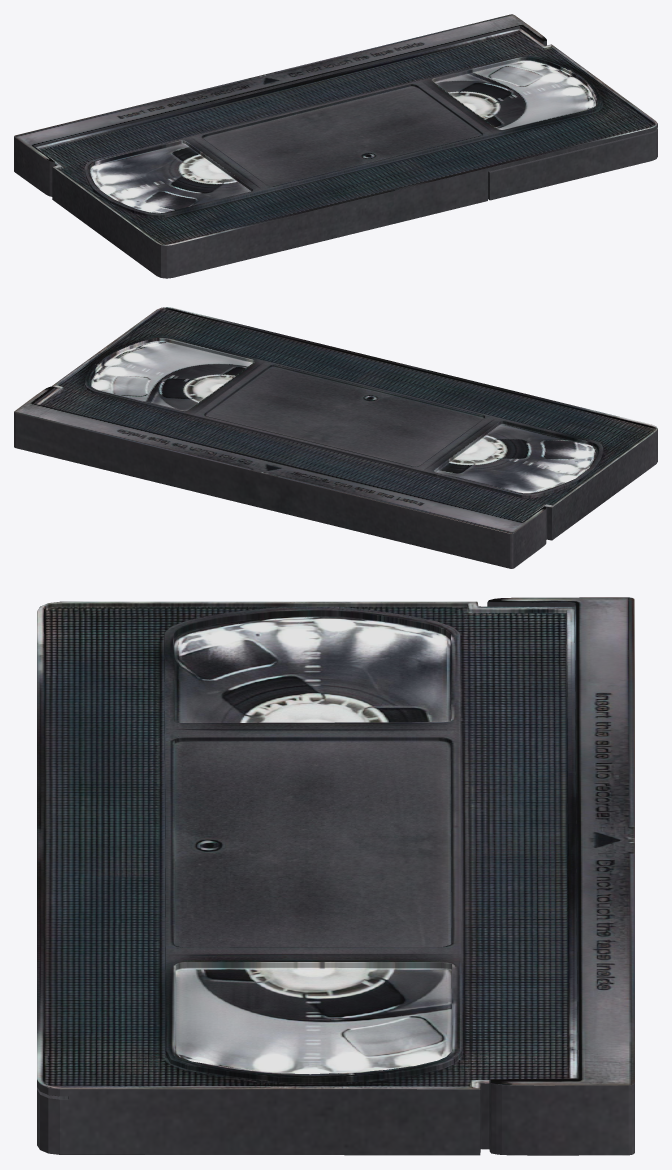
Rendered from vhs1.glb.
3 renders of one model, top to bottom at view 1: azimuth 30°, elevation 25°; view 2: azimuth 150°, elevation 25°; view 3: azimuth 270°, elevation 25°, orthographic. The views are drawn at different scales.
Visible parts, largest first — view 1: VHSTape; view 2: VHSTape; view 3: VHSTape.
Boxes of the visible parts, bbox=[...] form: VHSTape: bbox=[14, 14, 657, 278]; VHSTape: bbox=[14, 307, 657, 568]; VHSTape: bbox=[37, 597, 634, 1155].
Size of the model in its own units: 0.3262 by 0.0219 by 0.1689.
Materials: 1 (1 with a texture image).
